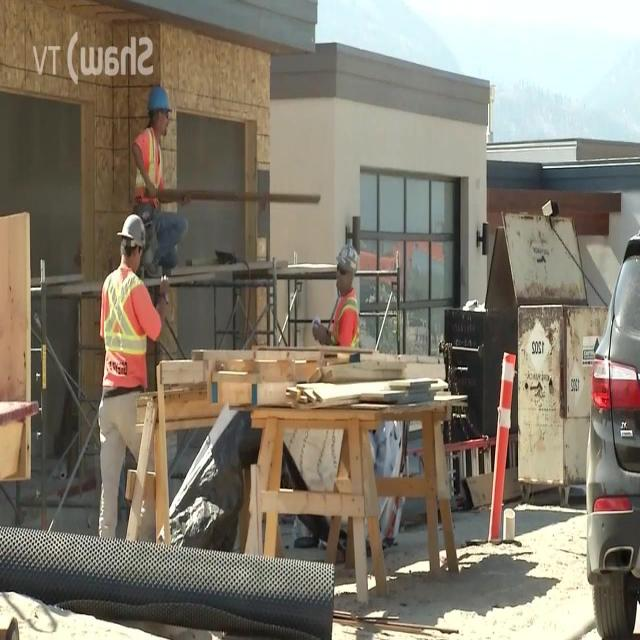Reflective-Jacket: (98, 267, 150, 393), (129, 126, 167, 212), (328, 289, 362, 355)
Safety-Helmet: (116, 208, 148, 252), (144, 80, 174, 120), (333, 238, 363, 274)
